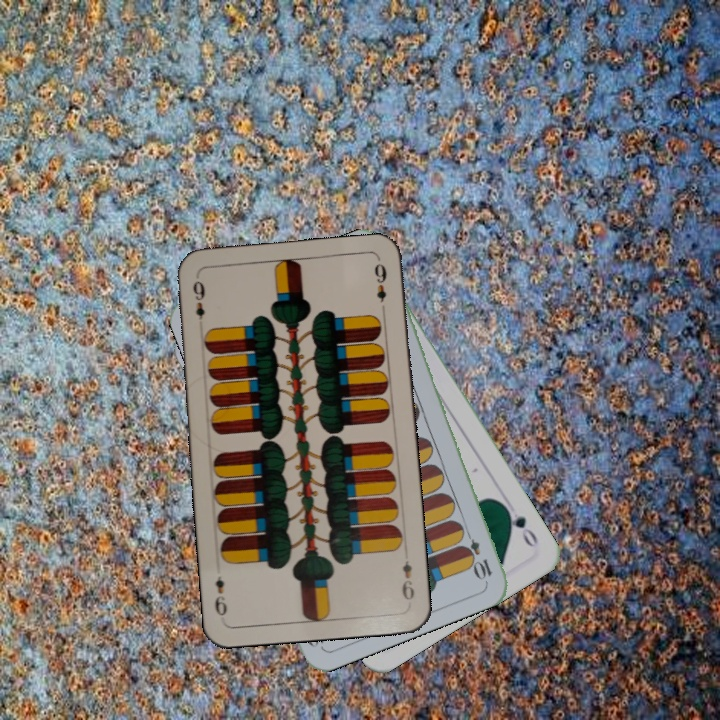E10: (459, 525, 495, 582)
E9: (398, 556, 417, 603), (189, 276, 208, 323)
GO: (499, 501, 541, 551)
